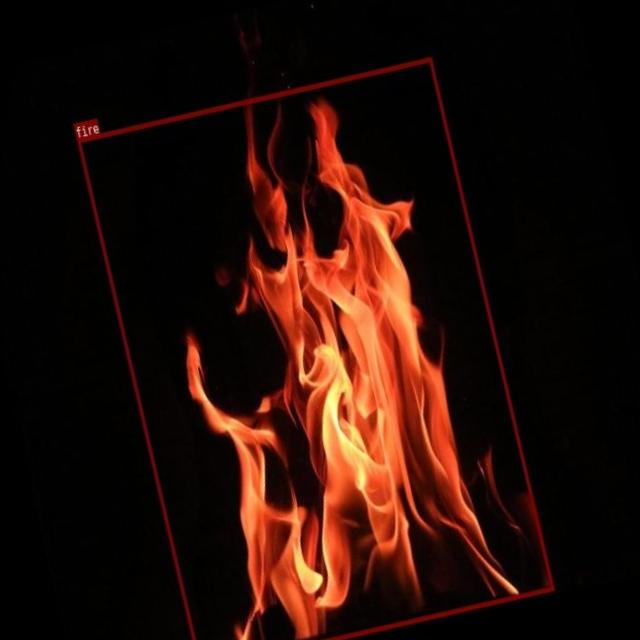fire: (75, 56, 553, 640)
